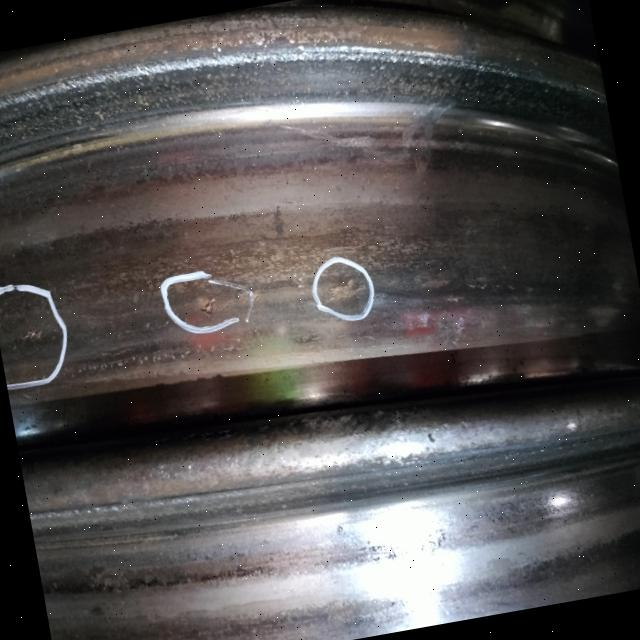Blue hole: (190, 279, 237, 329)
Contact_Fatigue_Cracks: (96, 135, 266, 190)
Peeling: (61, 334, 245, 385), (4, 312, 58, 361), (324, 266, 366, 313)
